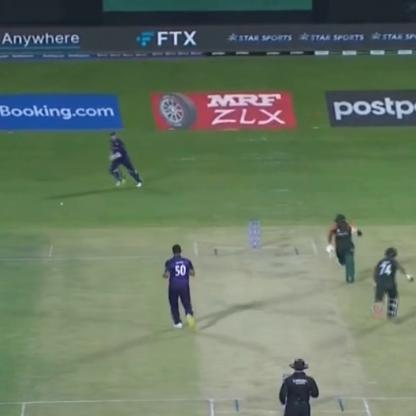ball: (54, 198, 66, 211)
bat: (322, 238, 341, 287)
pitch: (184, 226, 373, 416)
